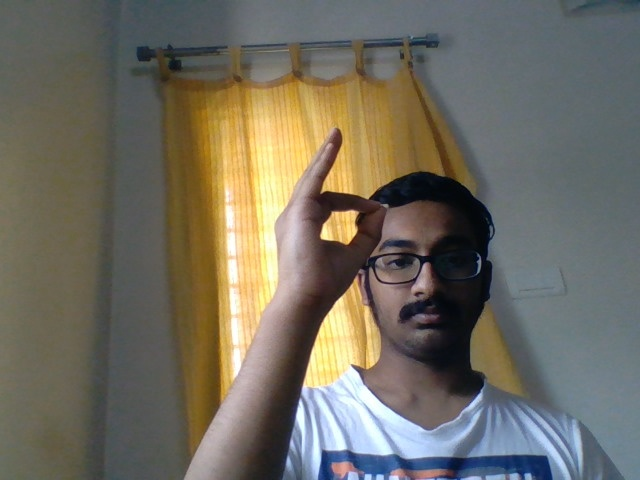hello: (248, 101, 390, 344)
